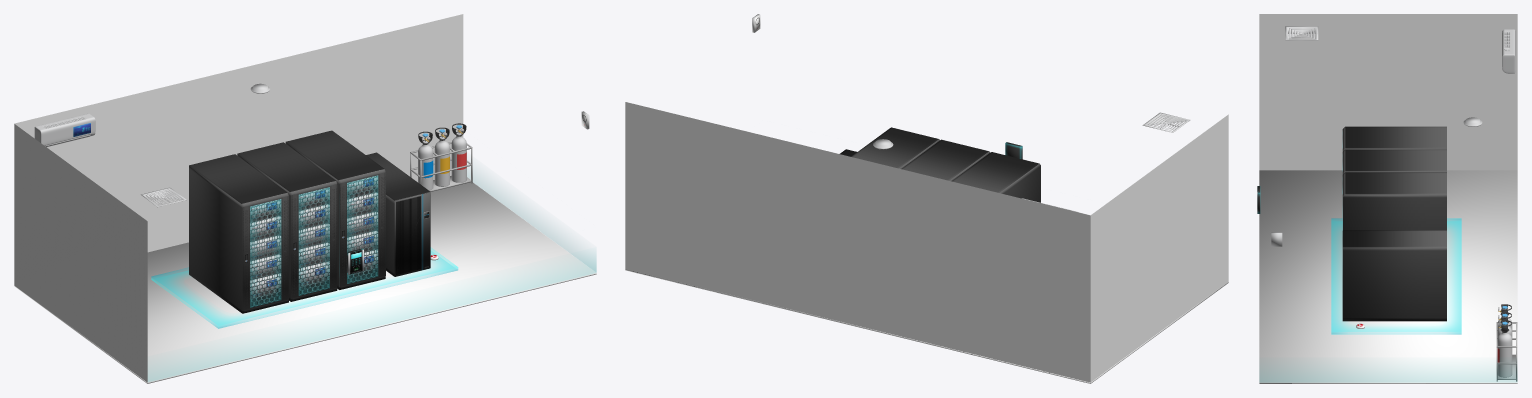
The model's file is insideScene.gltf.
3 renders of one model, left to right at view 1: azimuth 30°, elevation 25°; view 2: azimuth 150°, elevation 25°; view 3: azimuth 270°, elevation 25°, orthographic. The views are drawn at different scales.
Visible parts, largest first — view 1: Plane005, Box093, Plane004, iotmd.028, iotmd.025, iotmd.027, iotmd.023, iotmd.024, Plane001, iotmd.026, Box106, iotmd.022 (+19 smaller); view 2: Plane005, Plane004, iotmd.028, iotmd.026, iotmd.024, Box093, iotmd.031; view 3: Box093, Plane004, iotmd.021, iotmd.024, Box106, iotmd.028, iotmd.026, Plane002, iotmd.011, iotmd.001, iotmd.031.
Boxes of the visible parts, x1,y1,x2,y2 form: Plane005: [14, 14, 463, 252]; Box093: [14, 182, 596, 383]; Plane004: [14, 124, 147, 382]; iotmd.028: [189, 154, 288, 313]; iotmd.025: [291, 184, 337, 298]; iotmd.027: [242, 196, 288, 310]; iotmd.023: [339, 172, 385, 286]; iotmd.024: [285, 130, 385, 289]; Plane001: [148, 265, 595, 381]; iotmd.026: [237, 142, 337, 301]; Box106: [151, 248, 457, 328]; iotmd.022: [394, 192, 430, 276]; Plane005: [625, 102, 1090, 382]; Plane004: [1090, 114, 1228, 381]; iotmd.028: [951, 152, 1040, 202]; iotmd.026: [901, 139, 990, 181]; iotmd.024: [851, 127, 939, 168]; Box093: [625, 269, 1228, 383]; iotmd.031: [1142, 112, 1190, 132]; Box093: [1259, 170, 1517, 383]; Plane004: [1259, 14, 1517, 170]; iotmd.021: [1343, 230, 1446, 321]; iotmd.024: [1343, 172, 1446, 230]; Box106: [1331, 218, 1461, 334]; iotmd.028: [1343, 126, 1446, 151]; iotmd.026: [1343, 149, 1446, 173]; Plane002: [1260, 375, 1516, 381]; iotmd.011: [1497, 332, 1512, 377]; iotmd.001: [1502, 29, 1515, 73]; iotmd.031: [1285, 26, 1318, 40].
Size of the model in its own units: 50.87 by 17.61 by 26.35.
21 materials, 14 textured.
